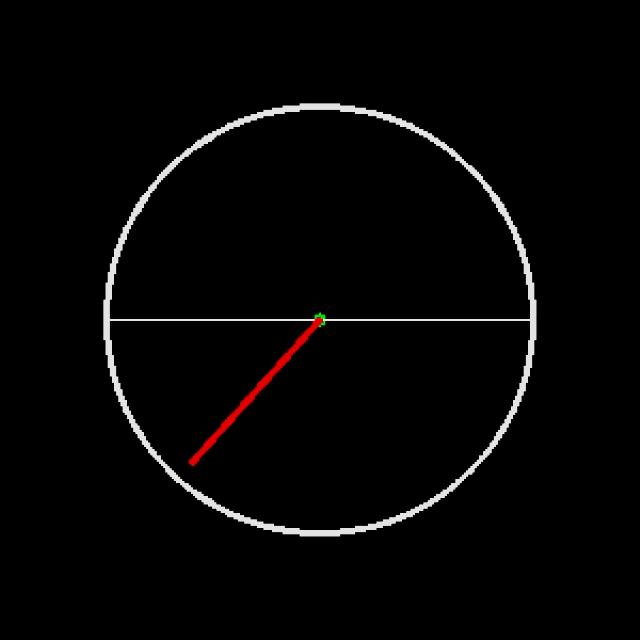Needle_Tip: (165, 433, 222, 483)
Needle_base: (301, 274, 341, 349)
